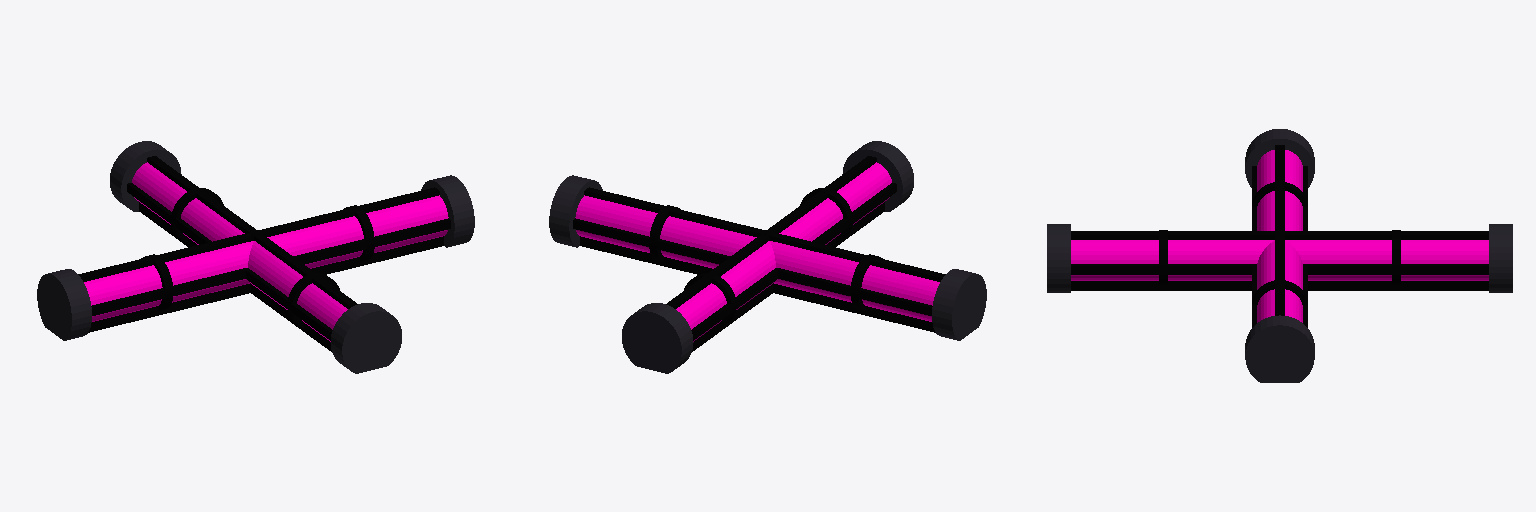
File: powerline_4con.obj
The picture shows the model from 3 angles: view 1: azimuth 30°, elevation 25°; view 2: azimuth 150°, elevation 25°; view 3: azimuth 270°, elevation 25°; orthographic projection.
Visible parts, largest first — view 1: Cylinder.001, Cube.001_Cube.001, Cylinder.005, Cylinder, Cylinder.004, Cube.001_Cube.002, Cube.003_Cube.001, Cylinder.003, Cylinder.002, Cube.003_Cube.004; view 2: Cylinder.001, Cube.001_Cube.001, Cylinder.005, Cylinder, Cylinder.004, Cube.001_Cube.002, Cube.003_Cube.001, Cylinder.003, Cylinder.002, Cube.003_Cube.004; view 3: Cylinder, Cube.001_Cube.002, Cylinder.004, Cylinder.001, Cube.003_Cube.004, Cylinder.005, Cube.001_Cube.001, Cylinder.003, Cylinder.002.
Boxes of the visible parts, <box> form: Cylinder.001: <box>84,195,448,321</box>; Cube.001_Cube.001: <box>78,187,450,315</box>; Cylinder.005: <box>110,141,401,373</box>; Cylinder: <box>132,162,347,341</box>; Cylinder.004: <box>37,175,474,340</box>; Cube.001_Cube.002: <box>127,156,357,340</box>; Cube.003_Cube.001: <box>88,236,443,332</box>; Cylinder.003: <box>171,188,339,327</box>; Cylinder.002: <box>141,205,374,310</box>; Cube.003_Cube.004: <box>139,202,331,351</box>; Cylinder.001: <box>575,195,939,321</box>; Cube.001_Cube.001: <box>573,187,945,315</box>; Cylinder.005: <box>622,141,913,373</box>; Cylinder: <box>676,162,891,341</box>; Cylinder.004: <box>549,175,986,340</box>; Cube.001_Cube.002: <box>666,156,896,340</box>; Cube.003_Cube.001: <box>580,236,935,332</box>; Cylinder.003: <box>684,188,852,327</box>; Cylinder.002: <box>649,205,882,310</box>; Cube.003_Cube.004: <box>692,202,884,351</box>; Cylinder: <box>1071,240,1488,280</box>; Cube.001_Cube.002: <box>1071,231,1488,274</box>; Cylinder.004: <box>1245,129,1314,382</box>; Cylinder.001: <box>1257,150,1302,322</box>; Cube.003_Cube.004: <box>1071,281,1488,290</box>; Cylinder.005: <box>1047,224,1512,292</box>; Cube.001_Cube.001: <box>1252,145,1307,327</box>; Cylinder.003: <box>1159,230,1400,286</box>; Cylinder.002: <box>1252,182,1307,304</box>.
Size of the model in its own units: 10 by 1.38 by 10.